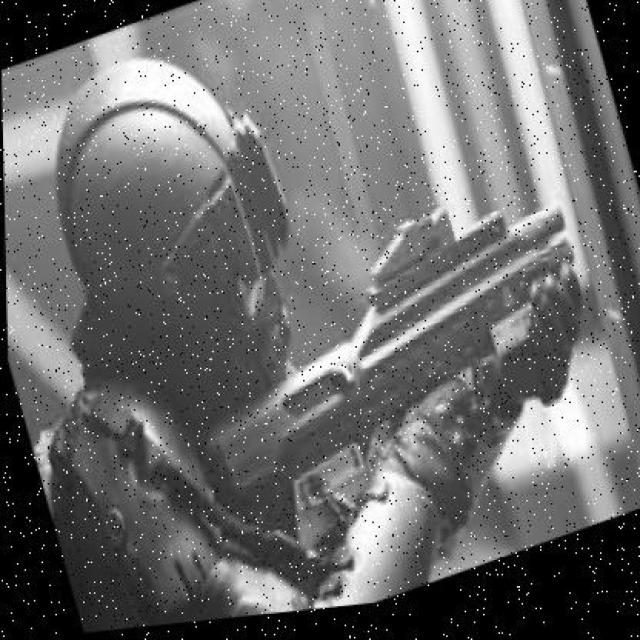weapon: (199, 204, 578, 555)
